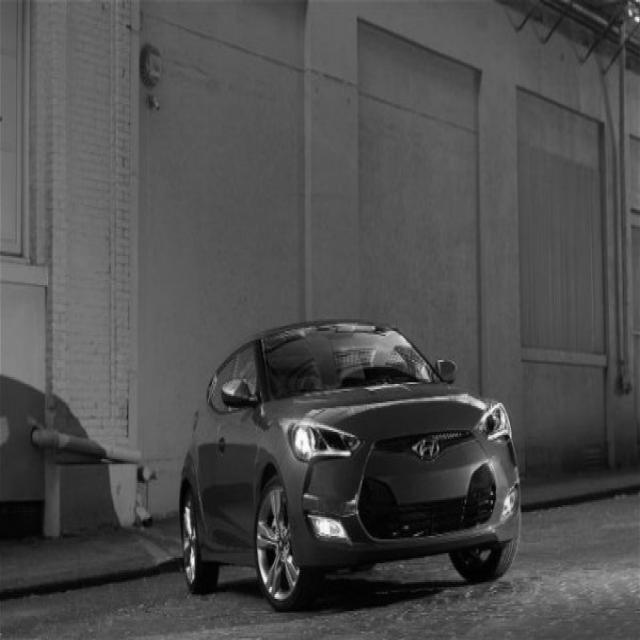car: (178, 317, 522, 611)
